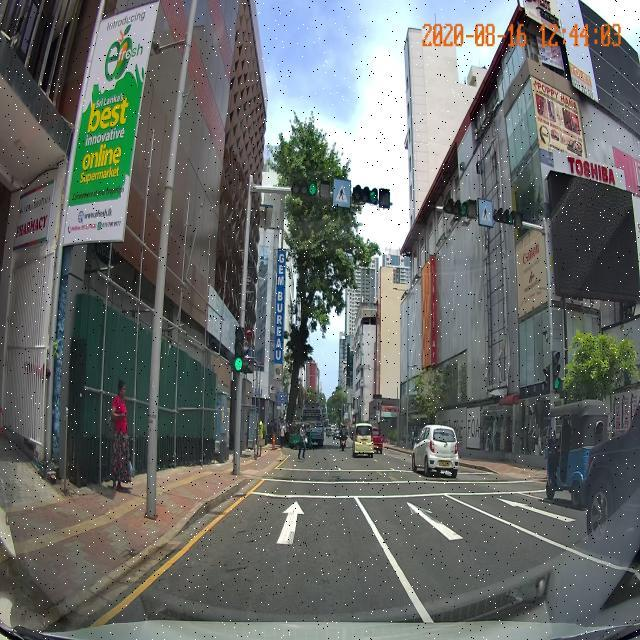forward: (189, 500, 389, 550)
